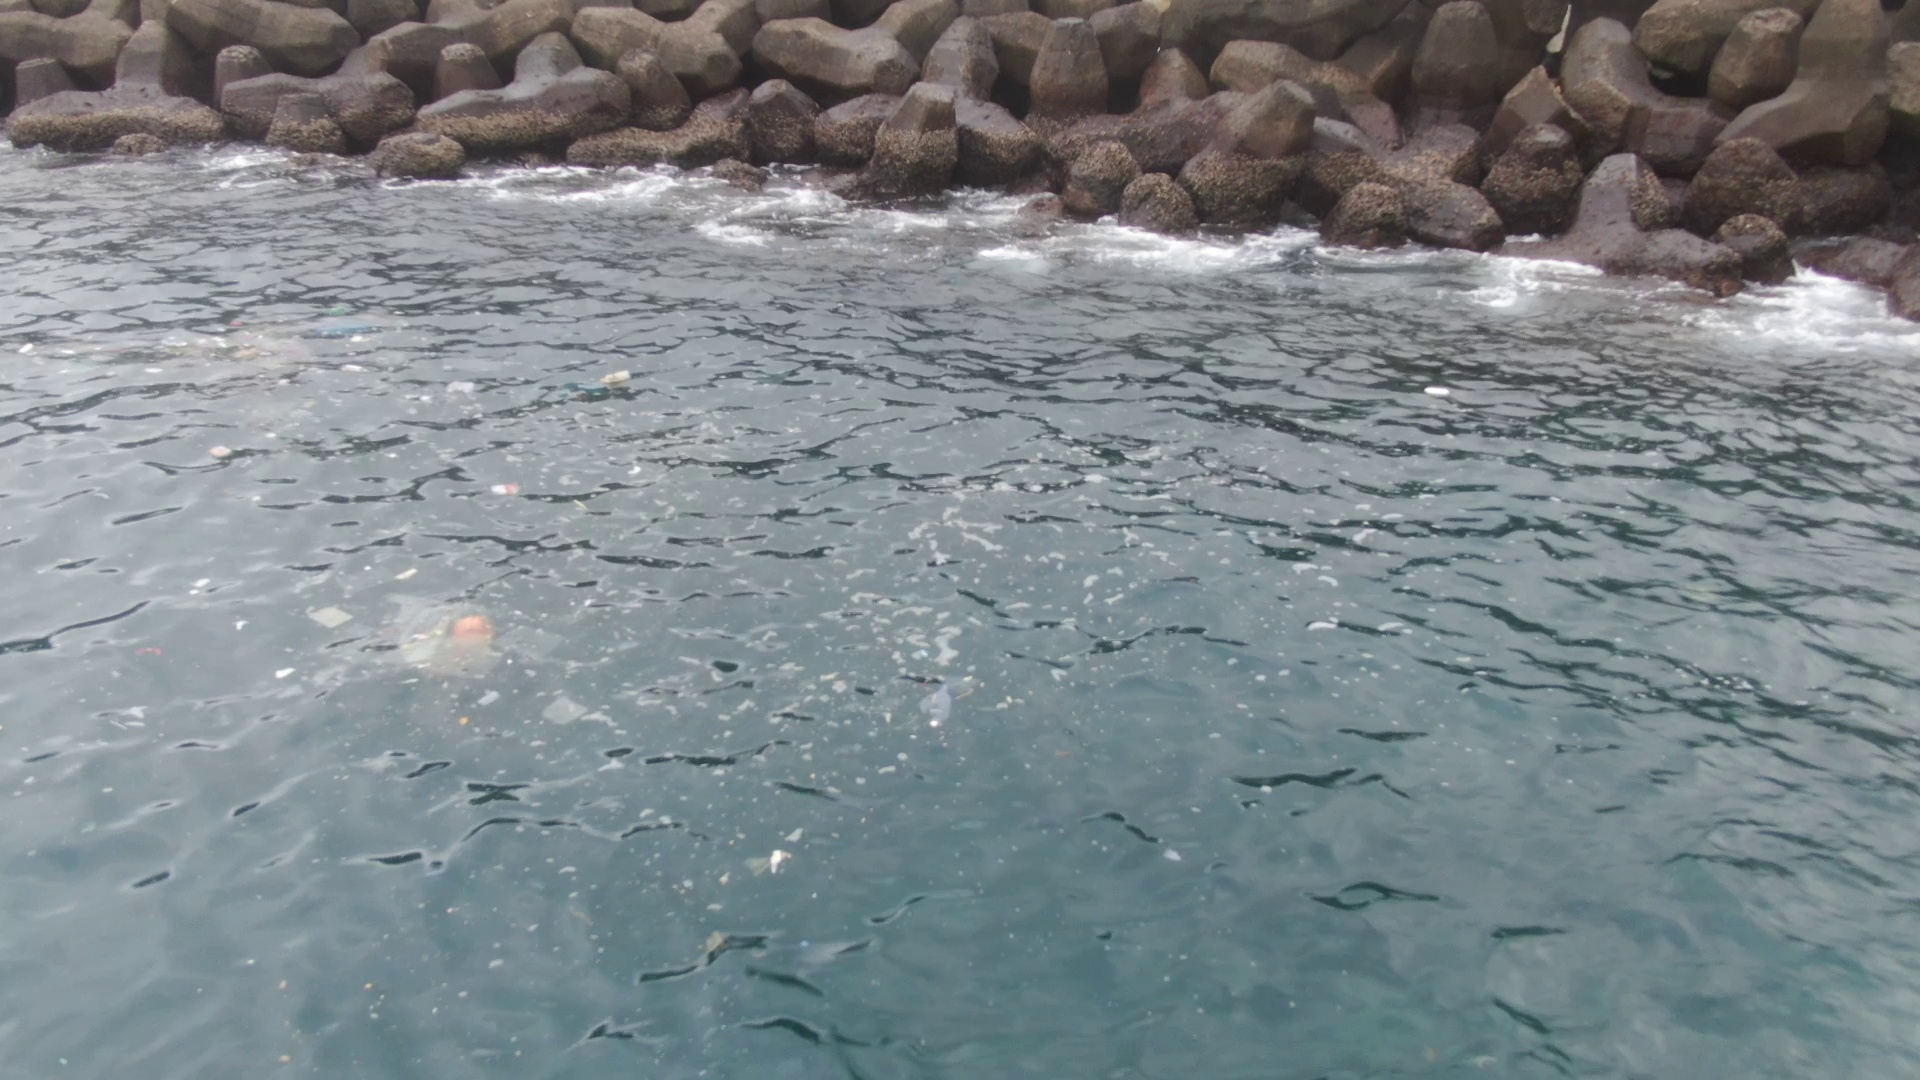garbage: (425, 603, 514, 673)
